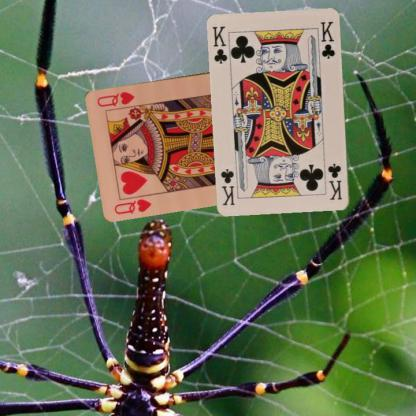Kc: (210, 24, 229, 65), (325, 160, 343, 202)
Qh: (112, 196, 152, 215)
